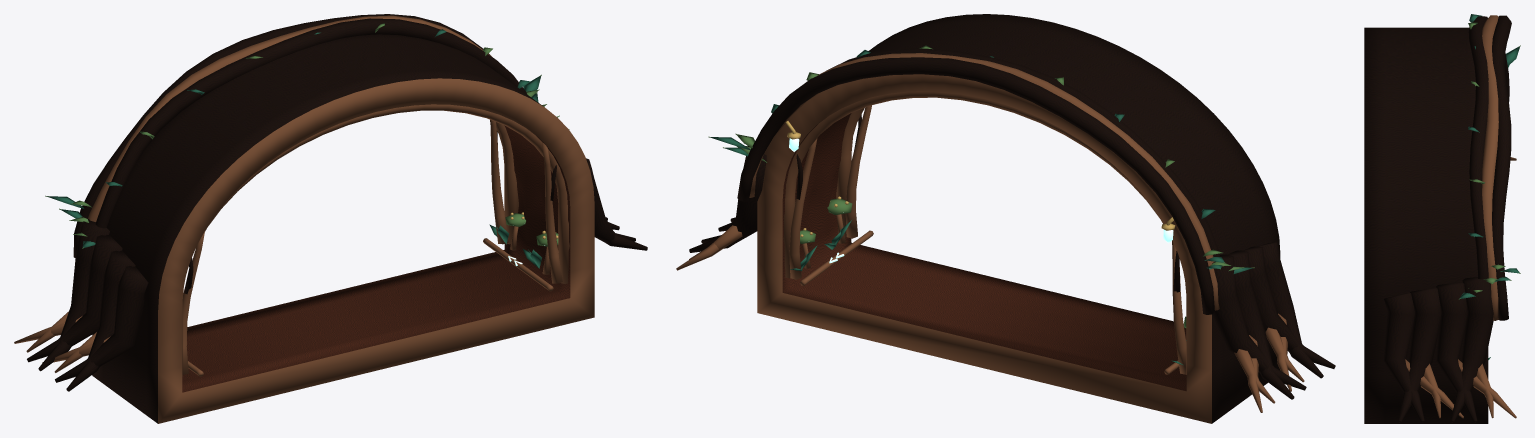
File: portal_exit_lod1.glb
3 views of the same model, side by side, from view 1: azimuth 30°, elevation 25°; view 2: azimuth 150°, elevation 25°; view 3: azimuth 270°, elevation 25° (orthographic). The views are drawn at different scales.
Parts seen in each view (by area): view 1: TunnelGeometry.001; view 2: TunnelGeometry.001; view 3: TunnelGeometry.001.
Boxes of the visible parts, box(x1,y1,x2,y2) form: TunnelGeometry.001: box(14, 14, 647, 423); TunnelGeometry.001: box(676, 14, 1335, 423); TunnelGeometry.001: box(1364, 14, 1520, 423).
Bounding box in the file's own units: 20.35 × 9.87 × 5.05.
7 materials, 2 textured.
